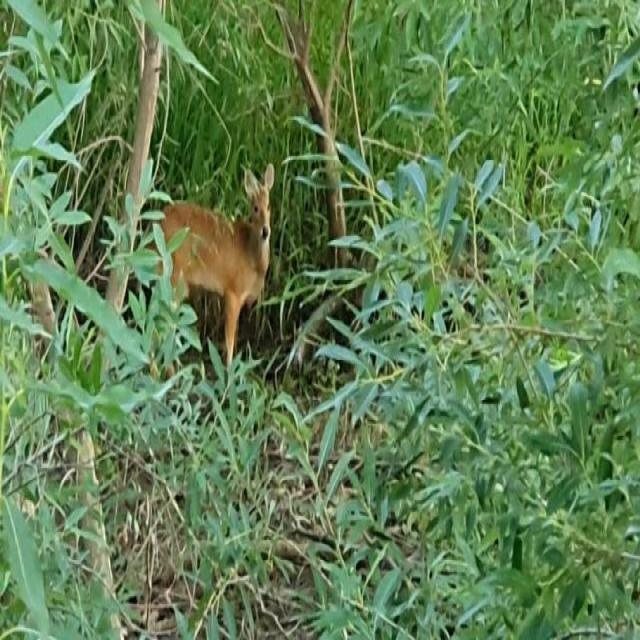deer: (136, 151, 284, 394)
